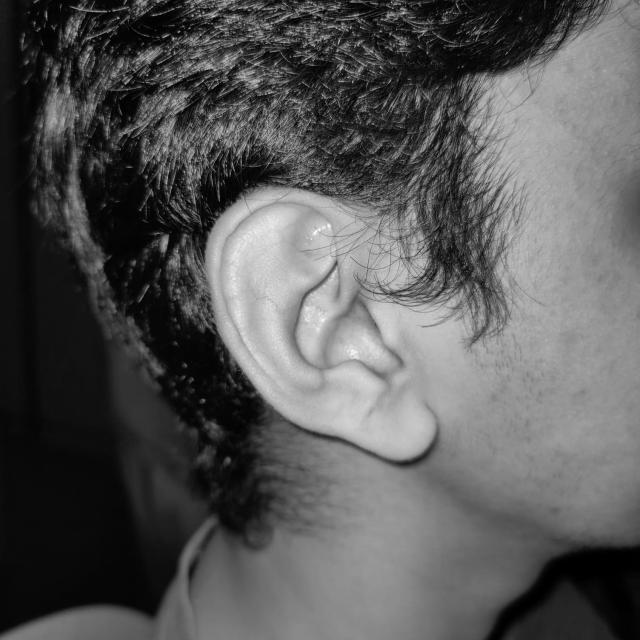ear: (206, 189, 436, 461), (354, 242, 366, 253)
